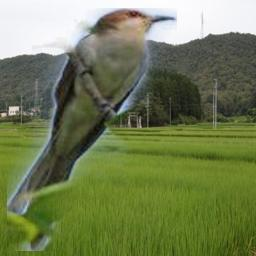Cuckoo: (7, 8, 177, 251)
